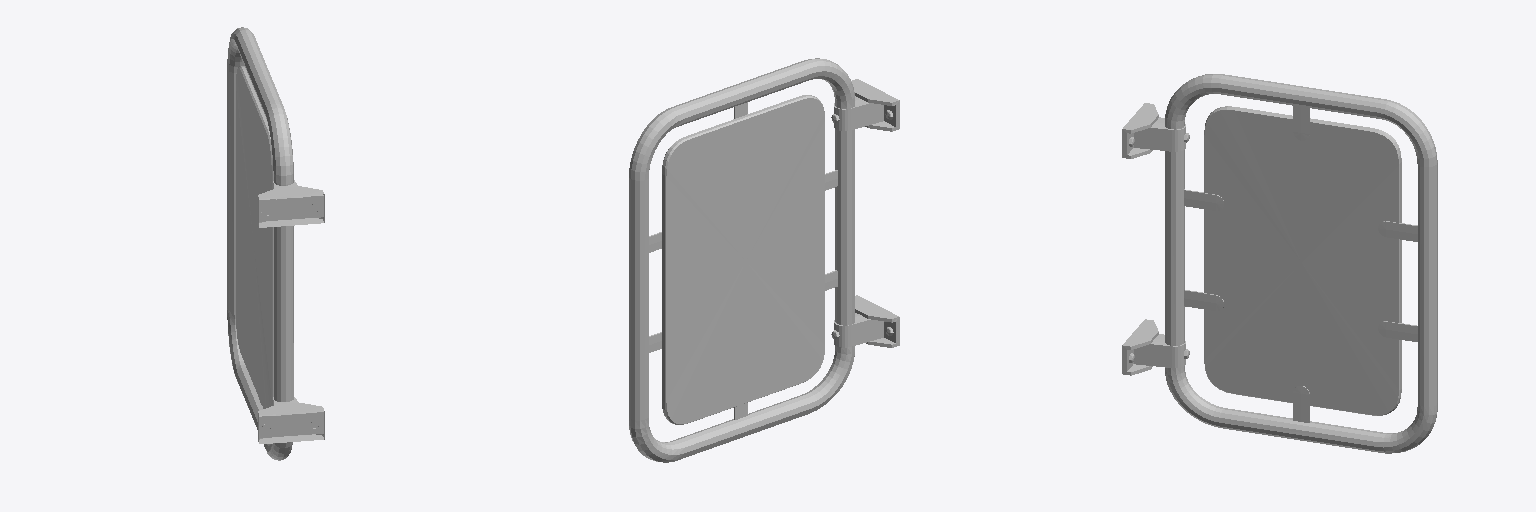
The picture shows the model from 3 angles: view 1: azimuth 30°, elevation 25°; view 2: azimuth 150°, elevation 25°; view 3: azimuth 270°, elevation 25°; orthographic projection.
Parts seen in each view (by area): view 1: Bistro_Research_Exterior_Paris_TrafficSign_01A_6511; view 2: Bistro_Research_Exterior_Paris_TrafficSign_01A_6511; view 3: Bistro_Research_Exterior_Paris_TrafficSign_01A_6511.
Part boxes in pixels (bbox=[...]): Bistro_Research_Exterior_Paris_TrafficSign_01A_6511: bbox=[227, 27, 324, 460]; Bistro_Research_Exterior_Paris_TrafficSign_01A_6511: bbox=[629, 58, 899, 462]; Bistro_Research_Exterior_Paris_TrafficSign_01A_6511: bbox=[1122, 74, 1437, 453].
Size of the model in its own units: 0.4469 by 1.17 by 0.9526.